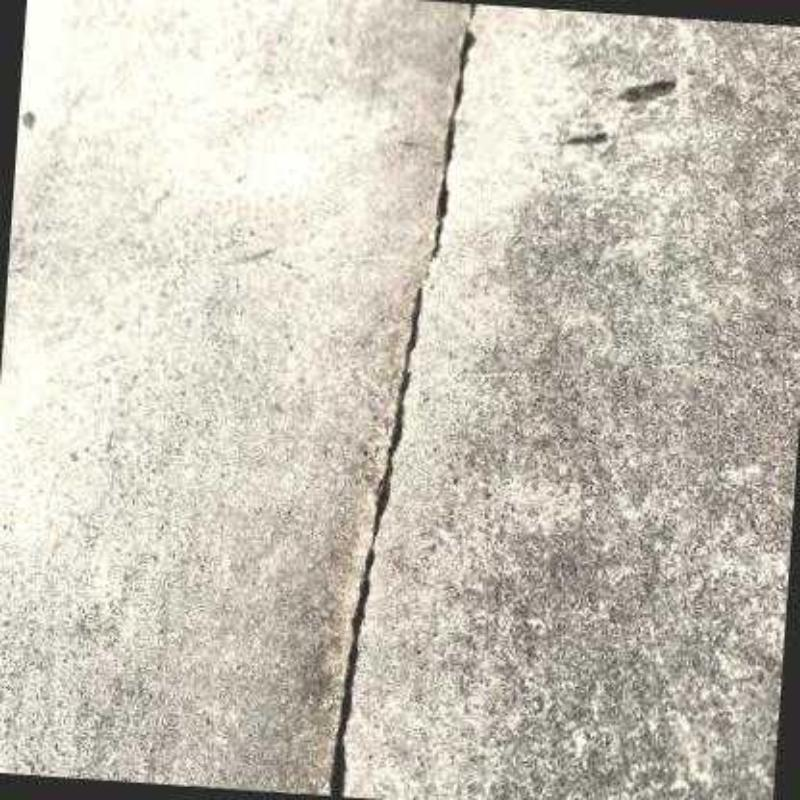pothole: (328, 4, 478, 797)
